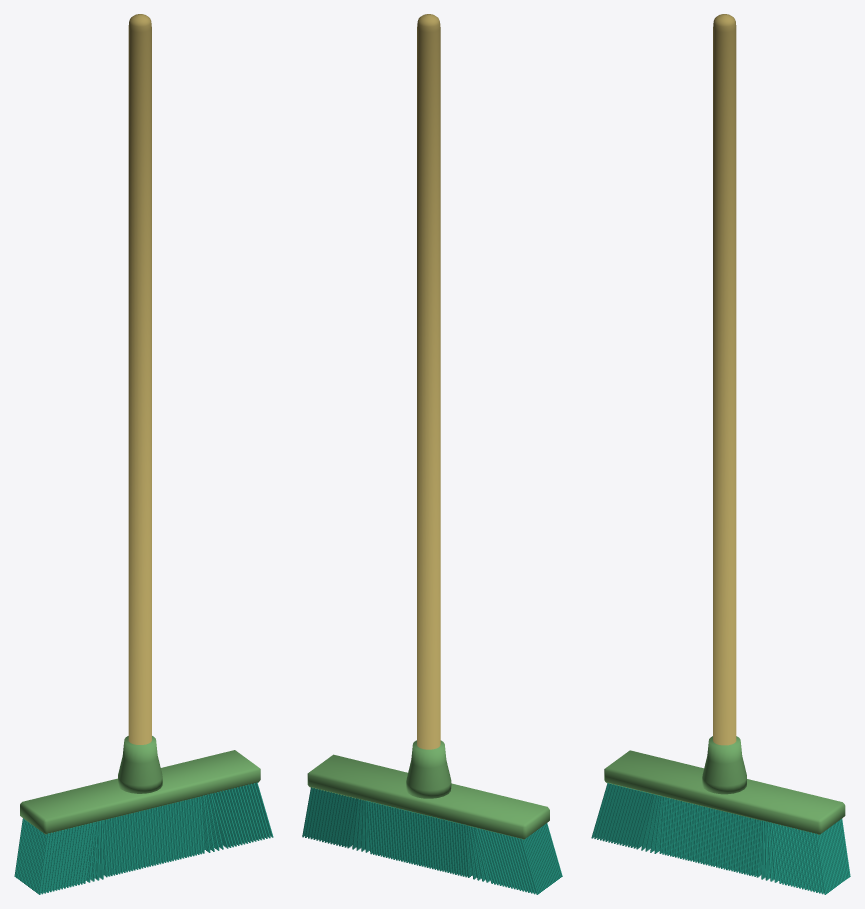
The model's file is Vassoura.fbx.
The picture shows the model from 3 angles, left to right: view 1: azimuth 30°, elevation 25°; view 2: azimuth 150°, elevation 25°; view 3: azimuth 330°, elevation 25°; orthographic projection.
Parts seen in each view (by area): view 1: Cylinder.005; view 2: Cylinder.005; view 3: Cylinder.005.
Boxes of the visible parts, <box> form: Cylinder.005: <box>14,14,273,894</box>; Cylinder.005: <box>302,14,562,894</box>; Cylinder.005: <box>591,14,850,894</box>.
Bounding box in the file's own units: 47.03 × 161 × 10.19.
